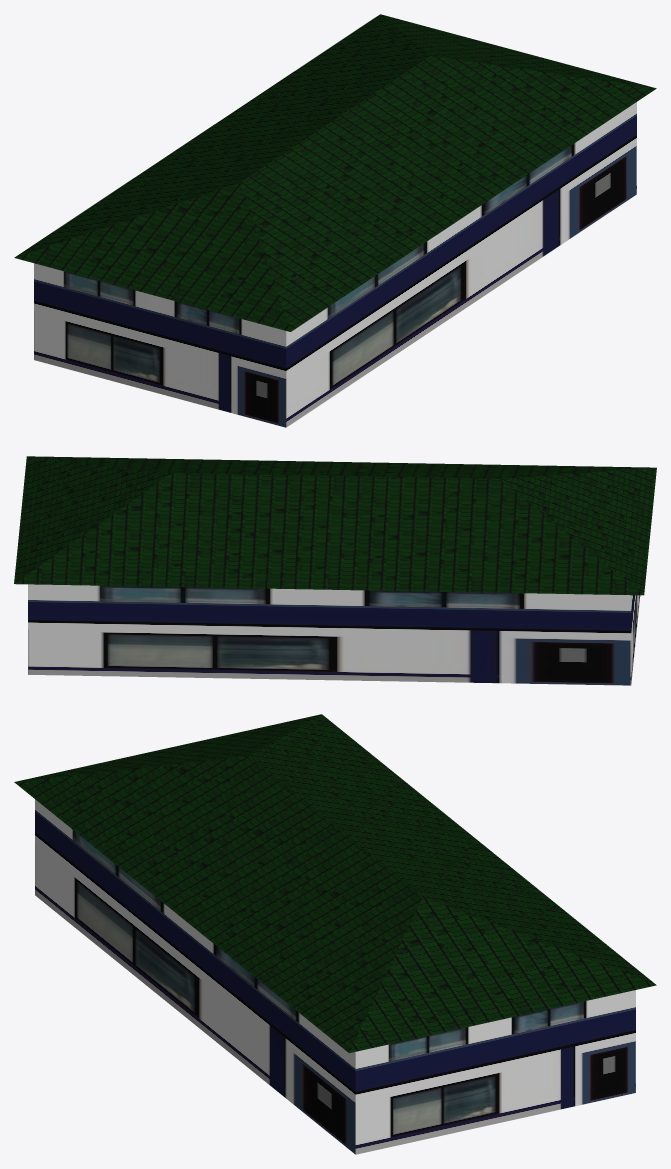
3 views of the same model, one above another, from view 1: azimuth 30°, elevation 25°; view 2: azimuth 150°, elevation 25°; view 3: azimuth 270°, elevation 25° (orthographic). The views are drawn at different scales.
Parts seen in each view (by area): view 1: CityEngineMaterial_13_m, CityEngineMaterial_2_m; view 2: CityEngineMaterial_13_m, CityEngineMaterial_2_m; view 3: CityEngineMaterial_13_m, CityEngineMaterial_2_m.
Part boxes in pixels (x1,y1,x2,y2): CityEngineMaterial_13_m: (14,14,656,331); CityEngineMaterial_2_m: (34,102,636,427); CityEngineMaterial_13_m: (14,456,656,595); CityEngineMaterial_2_m: (28,584,640,685); CityEngineMaterial_13_m: (14,714,656,1053); CityEngineMaterial_2_m: (35,799,635,1154).
Bounding box in the file's own units: 48.73 × 11.23 × 39.04.
